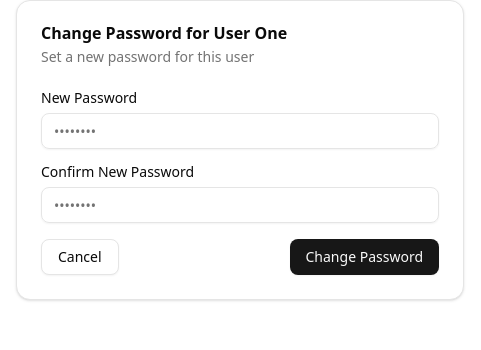
Test: ChangeUserPassword › shows validation error if password is invalid or does not match
// Use exact label text for specificity
Type "short" into the password field labelled "New Password" at (240, 131), box [41,113,439,149]
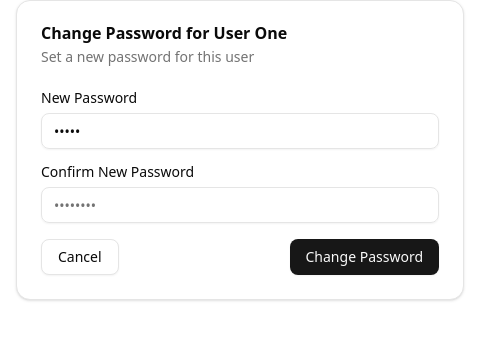
Type "short" into the password field labelled "Confirm New Password" at (240, 205), box [41,187,439,223]
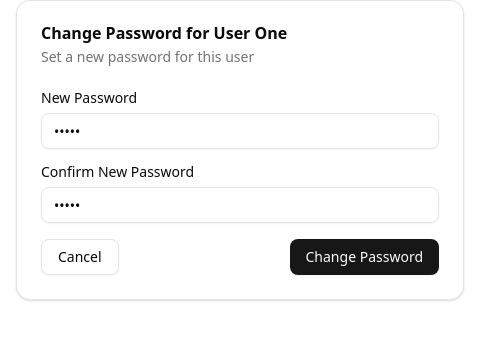
Click the button "Change Password" at (364, 257), box [290,239,439,275]
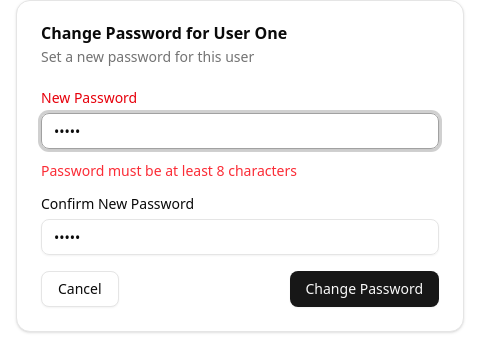
Now the text "Password must be at least 8 characters" is shown, box [41,161,297,180]
// Now test mismatch
Type "Password1" into the password field labelled "New Password" at (240, 131), box [41,113,439,149]
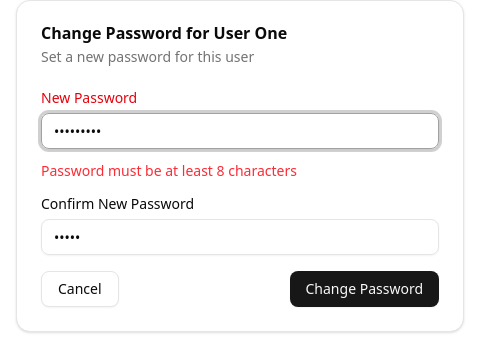
Type "Password2" into the password field labelled "Confirm New Password" at (240, 237), box [41,219,439,255]
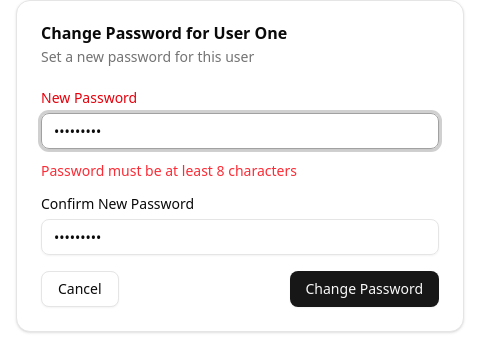
Click the button "Change Password" at (364, 289), box [290,271,439,307]
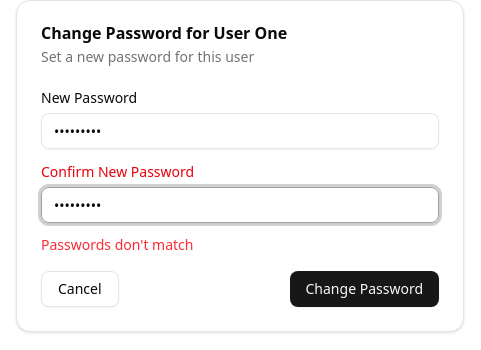
Now the text "Passwords don't match" is shown, box [41,235,194,254]
